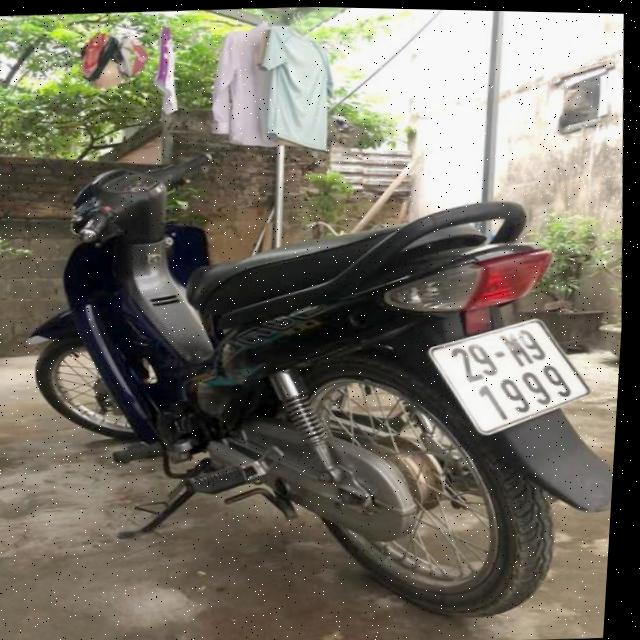motorcycle: (0, 124, 616, 640)
plate: (412, 308, 608, 444)
